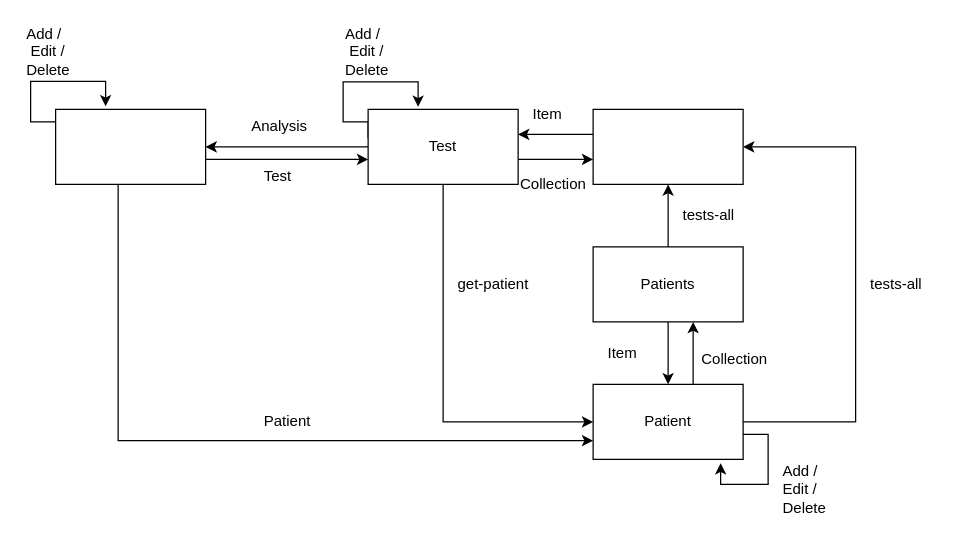
Some shapes in this 965 by 538 pixel diagram are drawn without their labels. The box of each missing label's shape, as (x1, y1, x2, y2) in pixels:
Results: (54, 108, 206, 184)
Tests: (592, 108, 743, 184)
